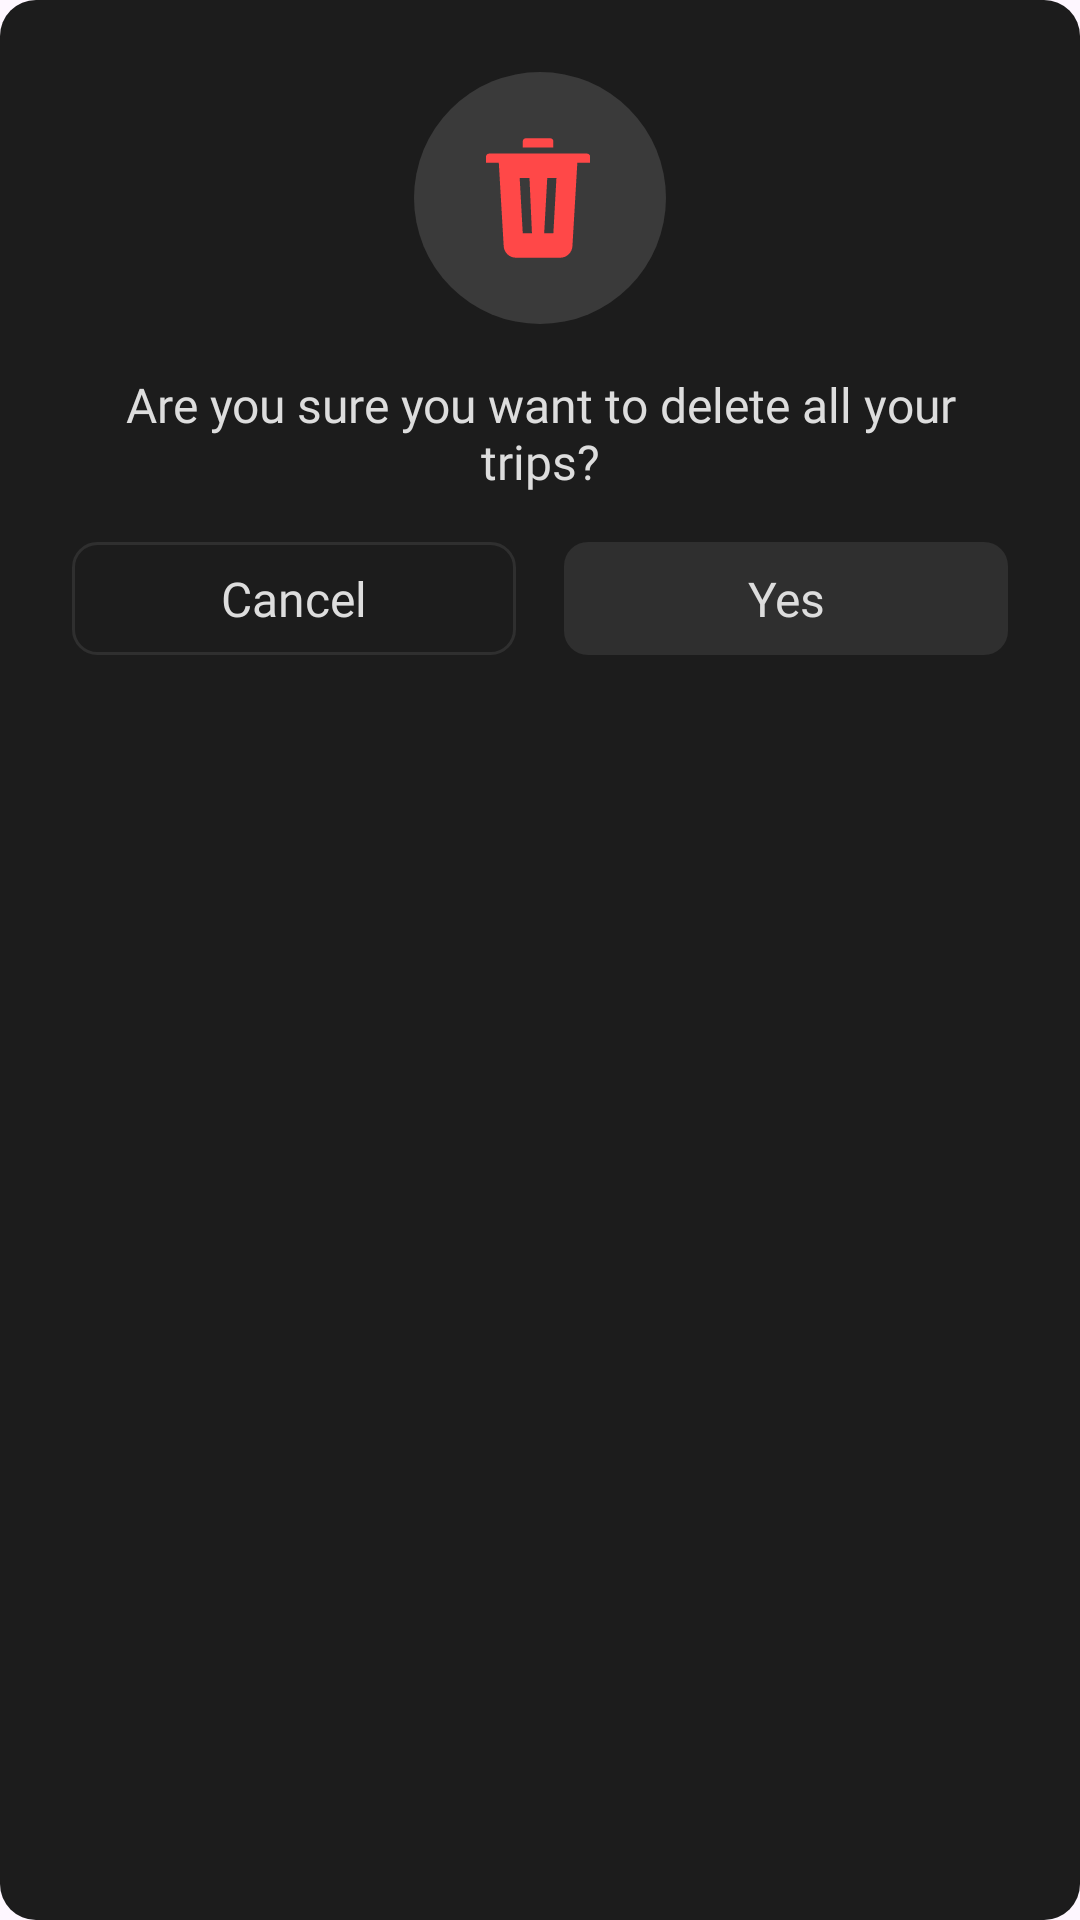

Named icons in this screenshot (1080x1920) and their centers, point (x, y):
delete history: point (540, 198)
